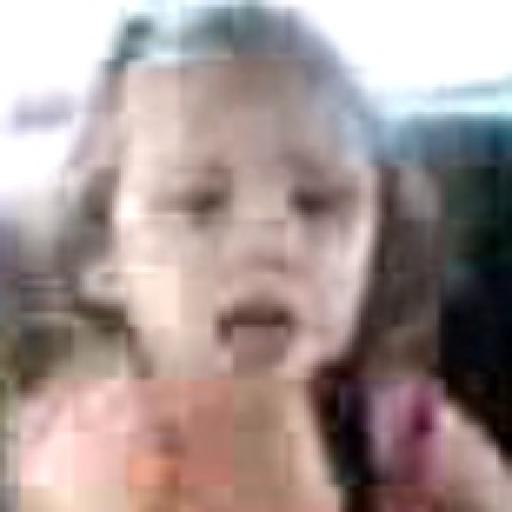Autism: (92, 19, 454, 423)
